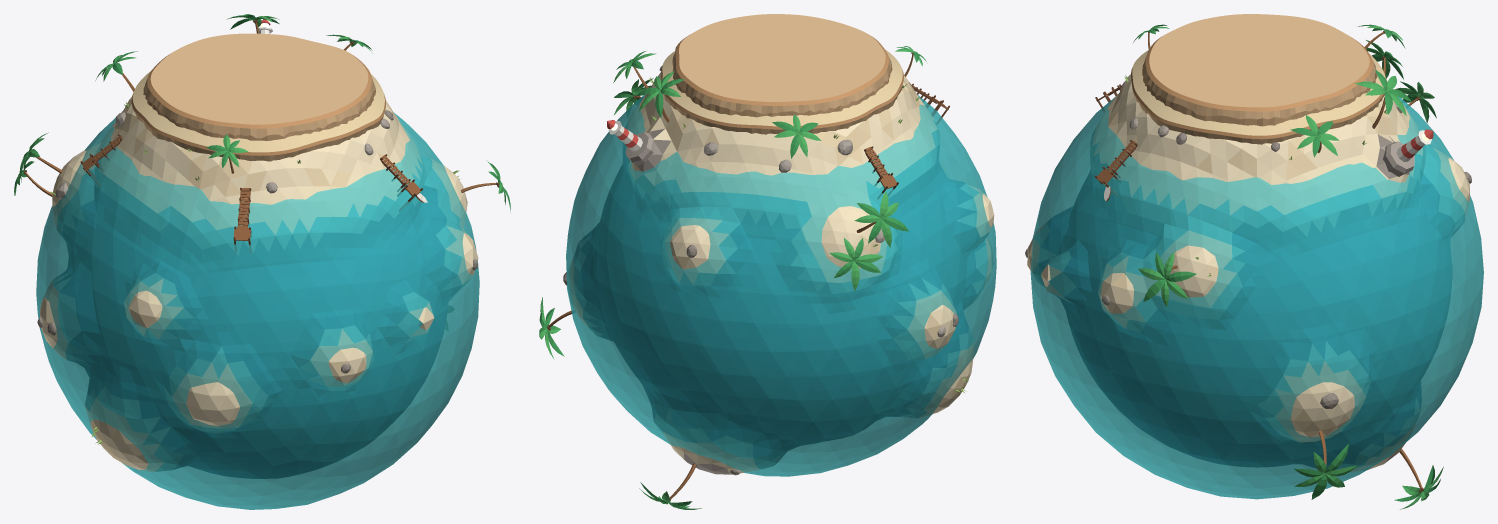
File: 01_Pelagia.glb
3 views of the same model, side by side, from view 1: azimuth 30°, elevation 25°; view 2: azimuth 150°, elevation 25°; view 3: azimuth 270°, elevation 25° (orthographic). The views are drawn at different scales.
Parts seen in each view (by area): view 1: Pelagia_Body, Pelagia_Ocean, Pelagia_BuildArea, Pelagia_Terraces, Pelagia_Deco_Palms, Pelagia_Deco_Piers, Pelagia_Deco_Rocks; view 2: Pelagia_Body, Pelagia_Ocean, Pelagia_BuildArea, Pelagia_Deco_Palms, Pelagia_Terraces, Pelagia_Deco_Lighthouse, Pelagia_Deco_Rocks, Pelagia_Deco_Piers; view 3: Pelagia_Ocean, Pelagia_Body, Pelagia_BuildArea, Pelagia_Deco_Palms, Pelagia_Terraces, Pelagia_Deco_Lighthouse, Pelagia_Deco_Piers, Pelagia_Deco_Rocks.
Part boxes in pixels (bbox=[...]): Pelagia_Body: bbox=[40, 97, 478, 478]; Pelagia_Ocean: bbox=[36, 111, 479, 509]; Pelagia_BuildArea: bbox=[143, 33, 375, 140]; Pelagia_Terraces: bbox=[131, 71, 385, 161]; Pelagia_Deco_Palms: bbox=[14, 14, 510, 212]; Pelagia_Deco_Piers: bbox=[80, 134, 422, 252]; Pelagia_Deco_Rocks: bbox=[37, 110, 477, 373]; Pelagia_Body: bbox=[569, 72, 994, 474]; Pelagia_Ocean: bbox=[566, 95, 996, 476]; Pelagia_BuildArea: bbox=[672, 14, 892, 117]; Pelagia_Deco_Palms: bbox=[539, 46, 926, 509]; Pelagia_Terraces: bbox=[661, 49, 903, 134]; Pelagia_Deco_Lighthouse: bbox=[607, 120, 654, 165]; Pelagia_Deco_Rocks: bbox=[563, 66, 958, 475]; Pelagia_Deco_Piers: bbox=[864, 82, 949, 199]; Pelagia_Ocean: bbox=[1030, 96, 1483, 499]; Pelagia_Body: bbox=[1027, 74, 1469, 471]; Pelagia_BuildArea: bbox=[1142, 14, 1377, 126]; Pelagia_Deco_Palms: bbox=[1133, 24, 1443, 509]; Pelagia_Terraces: bbox=[1131, 50, 1386, 144]; Pelagia_Deco_Lighthouse: bbox=[1383, 129, 1433, 176]; Pelagia_Deco_Piers: bbox=[1094, 84, 1137, 197]; Pelagia_Deco_Rocks: bbox=[1025, 80, 1471, 408].
Bounding box in the file's own units: 2.15 × 2.13 × 2.02.
